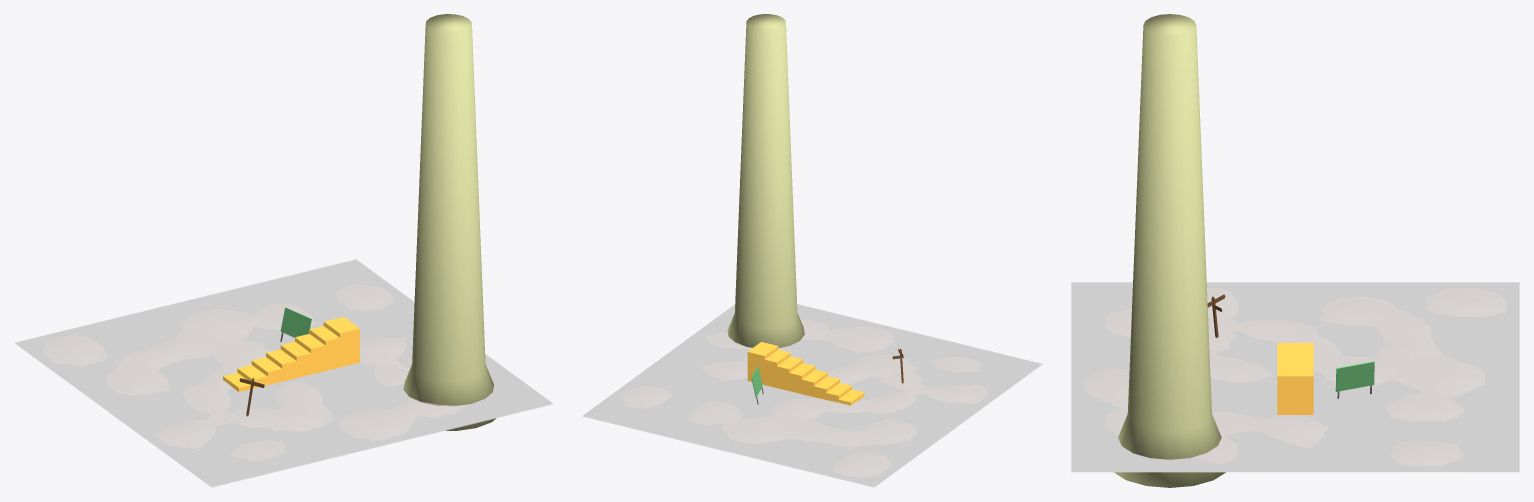
The model's file is rock_kicking_heaven_stairs_ground.glb.
3 views of the same model, side by side, from view 1: azimuth 30°, elevation 25°; view 2: azimuth 150°, elevation 25°; view 3: azimuth 270°, elevation 25° (orthographic). The views are drawn at different scales.
Parts seen in each view (by area): view 1: Ground, Cylinder, Clouds, stairs, Cube; view 2: Ground, Cylinder, Clouds, stairs; view 3: Ground, Cylinder, Clouds, stairs, Cube.
Part boxes in pixels (bbox=[...]): Ground: bbox=[14, 259, 553, 487]; Cylinder: bbox=[403, 14, 496, 430]; Clouds: bbox=[14, 284, 553, 487]; stairs: bbox=[223, 317, 359, 391]; Cube: bbox=[280, 307, 311, 341]; Ground: bbox=[582, 304, 1042, 487]; Cylinder: bbox=[727, 14, 804, 347]; Clouds: bbox=[582, 319, 1042, 487]; stairs: bbox=[747, 342, 864, 405]; Ground: bbox=[1071, 282, 1519, 471]; Cylinder: bbox=[1113, 14, 1225, 487]; Clouds: bbox=[1071, 288, 1519, 472]; stairs: bbox=[1277, 343, 1313, 414]; Cube: bbox=[1335, 361, 1374, 398].
Size of the model in its own units: 500 by 537 by 500.
